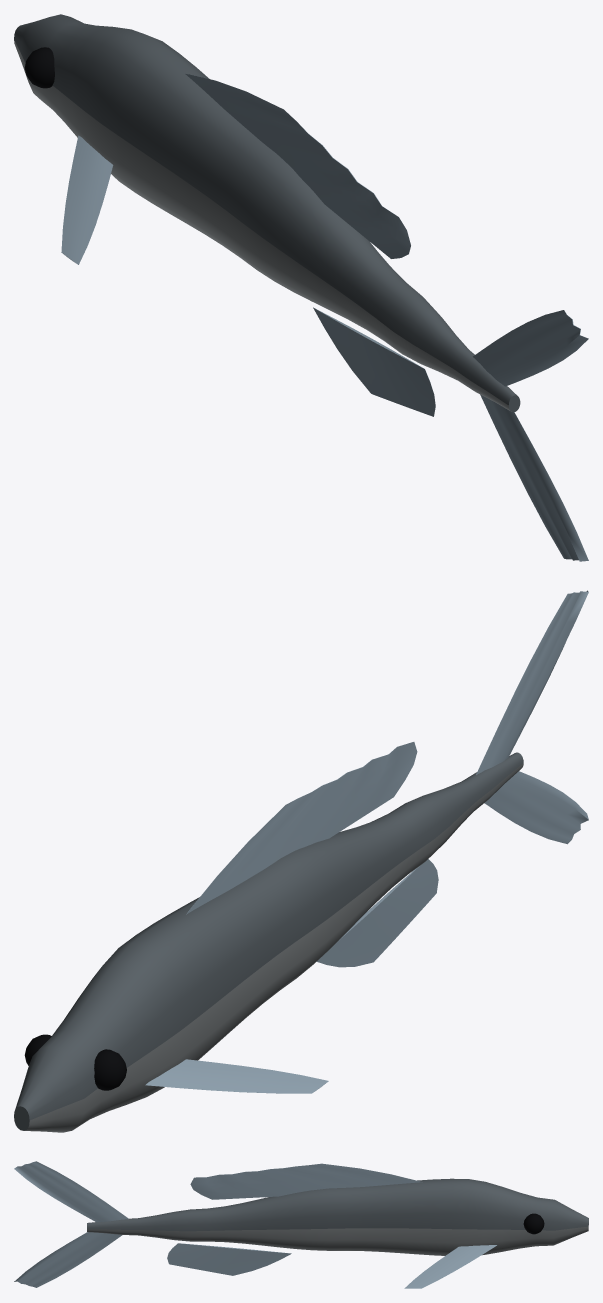
File: rift_darter.glb
3 renders of one model, top to bottom at view 1: azimuth 30°, elevation 25°; view 2: azimuth 150°, elevation 25°; view 3: azimuth 270°, elevation 25°, orthographic. The views are drawn at different scales.
Parts seen in each view (by area): view 1: darter__m, darter_fins__m; view 2: darter__m, darter_fins__m; view 3: darter__m, darter_fins__m.
Boxes of the visible parts, bbox=[...] form: darter__m: bbox=[14, 14, 520, 412]; darter_fins__m: bbox=[61, 73, 588, 561]; darter__m: bbox=[14, 752, 523, 1132]; darter_fins__m: bbox=[145, 590, 588, 1093]; darter__m: bbox=[87, 1178, 588, 1255]; darter_fins__m: bbox=[14, 1161, 496, 1288].
Size of the model in its own units: 0.064 by 0.0613 by 0.252.
